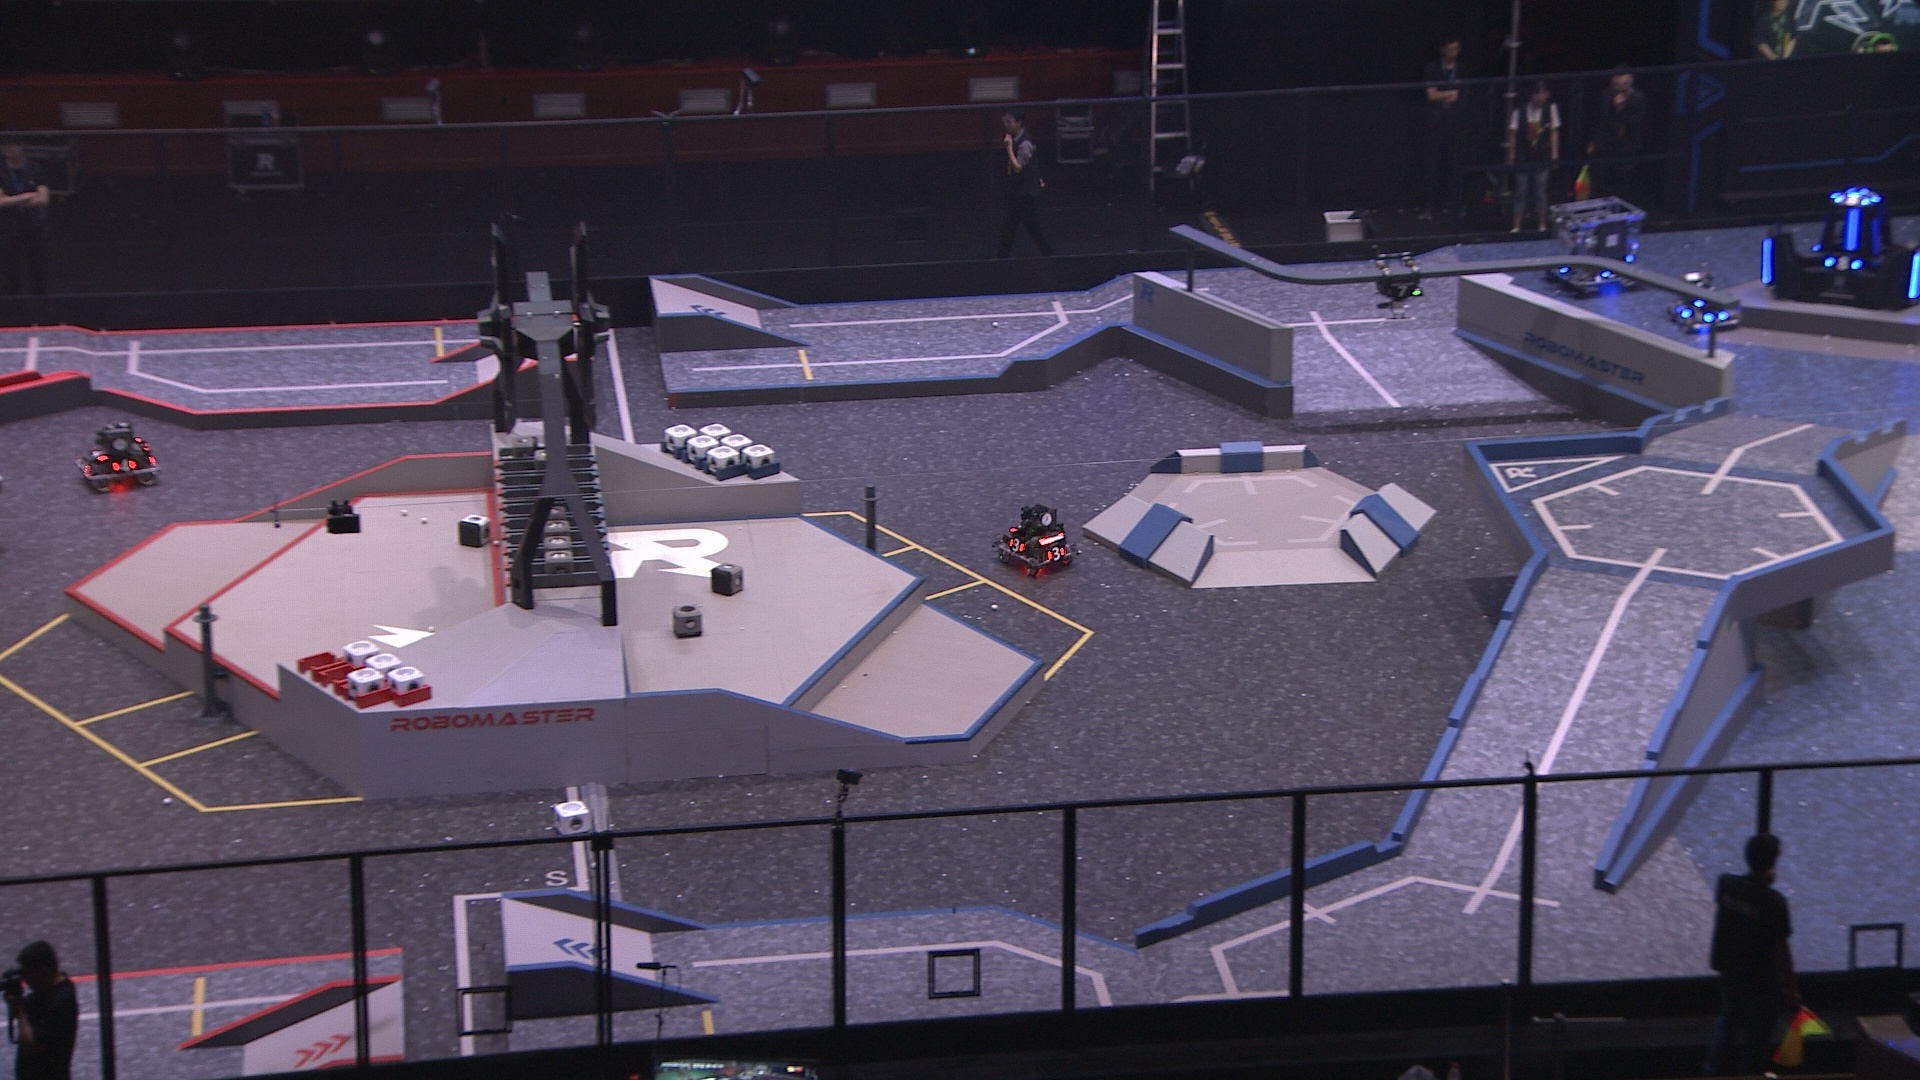armor: (1842, 206, 1865, 253), (1756, 233, 1774, 285), (1822, 253, 1865, 272), (1832, 191, 1871, 208), (1907, 252, 1920, 302), (1385, 282, 1420, 301), (1869, 214, 1884, 255), (107, 458, 138, 473), (1675, 301, 1695, 323), (1702, 309, 1727, 324), (1044, 543, 1065, 560), (88, 446, 109, 463), (1007, 534, 1026, 553), (1861, 186, 1878, 204)
base: (1754, 182, 1920, 314)
car: (1538, 193, 1644, 295), (71, 419, 164, 495), (996, 502, 1077, 579), (1665, 272, 1741, 328)
watcher: (1366, 243, 1425, 320)
